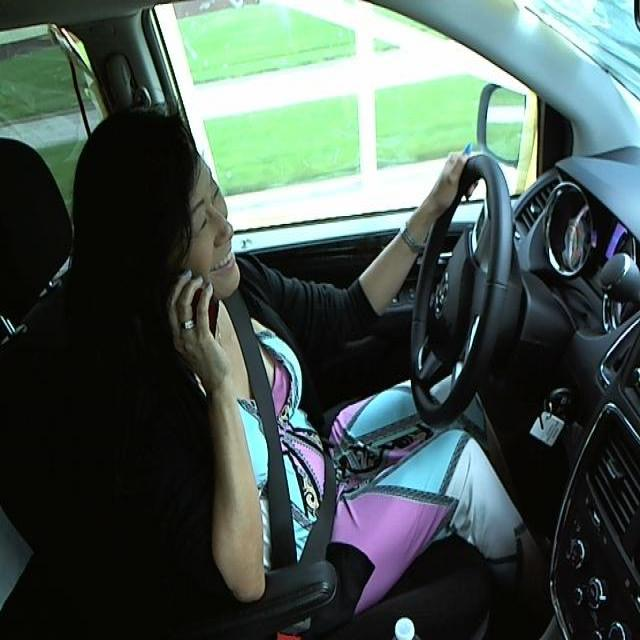using_phone: (57, 122, 269, 362)
